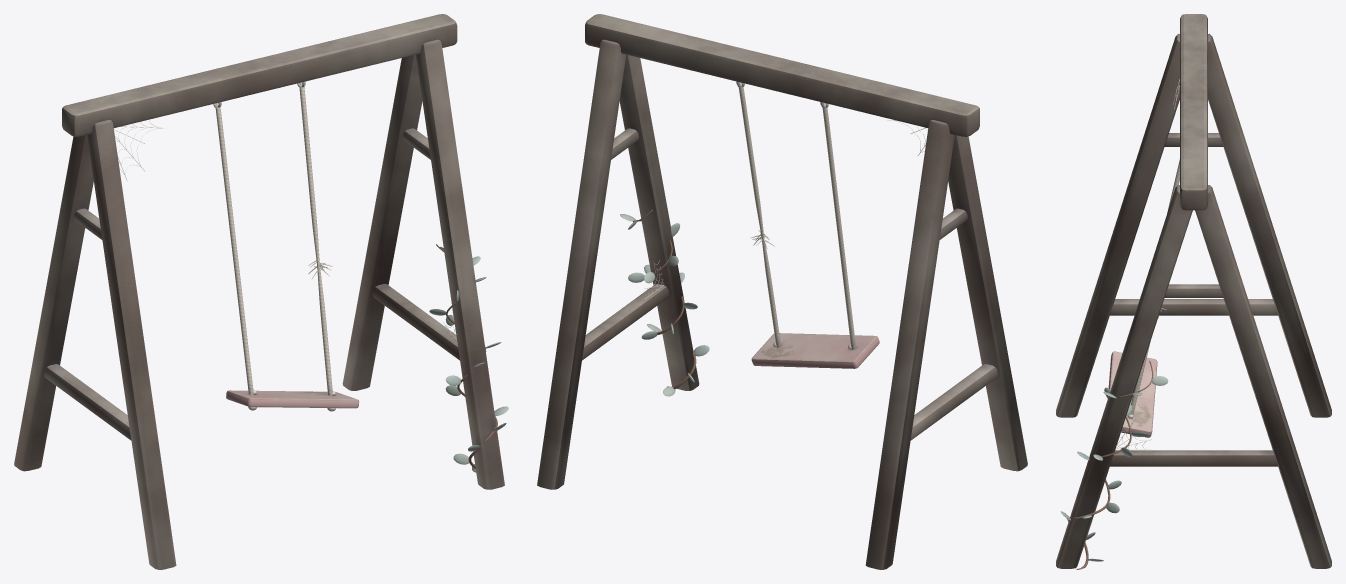
Rendered from creepy-swing.glb.
The picture shows the model from 3 angles, left to right: view 1: azimuth 30°, elevation 25°; view 2: azimuth 150°, elevation 25°; view 3: azimuth 270°, elevation 25°; orthographic projection. The views are drawn at different scales.
Parts seen in each view (by area): view 1: creepy-swing_body, creepy-swing_seat; view 2: creepy-swing_body, creepy-swing_seat; view 3: creepy-swing_body, creepy-swing_seat.
Boxes of the visible parts, x1,y1,x2,y2 form: creepy-swing_body: (14, 14, 508, 569); creepy-swing_seat: (213, 81, 359, 411); creepy-swing_body: (537, 14, 1027, 569); creepy-swing_seat: (736, 81, 879, 368); creepy-swing_body: (1056, 14, 1331, 569); creepy-swing_seat: (1108, 159, 1179, 437).
Bounding box in the file's own units: 2.16 × 2.2 × 1.42.
Materials: 3 (2 with a texture image).
